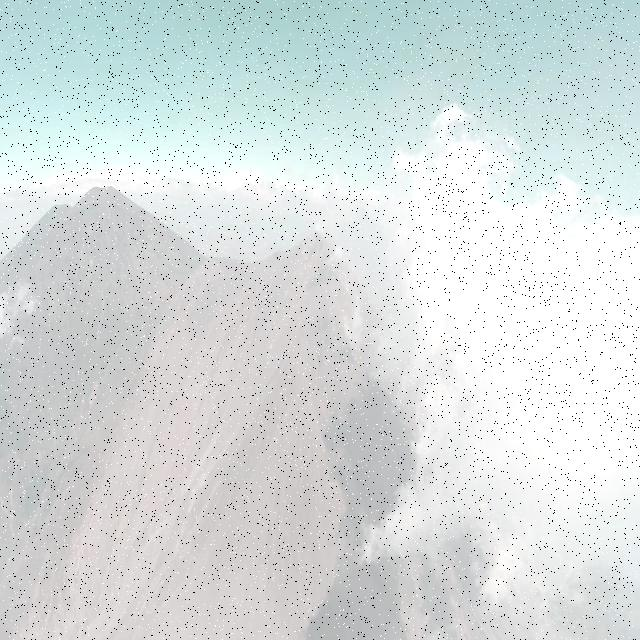Summit: (266, 226, 358, 295)
